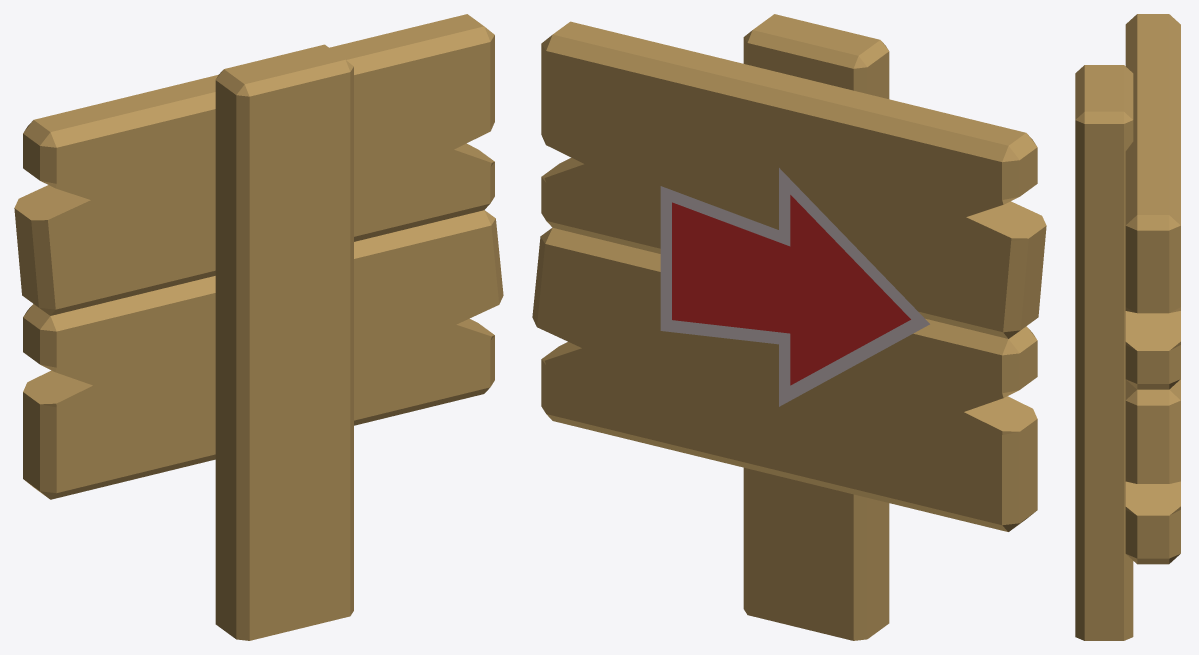
The model's file is SM_Sign.fbx.
3 renders of one model, left to right at view 1: azimuth 30°, elevation 25°; view 2: azimuth 150°, elevation 25°; view 3: azimuth 270°, elevation 25°, orthographic. The views are drawn at different scales.
Parts seen in each view (by area): view 1: SM_Sign; view 2: SM_Sign; view 3: SM_Sign.
Part boxes in pixels (left/top/right/bottom): SM_Sign: left=14, top=14, right=503, bottom=640; SM_Sign: left=532, top=14, right=1046, bottom=640; SM_Sign: left=1075, top=14, right=1180, bottom=640.
Bounding box in the file's own units: 1.32 × 1.48 × 0.2795.
